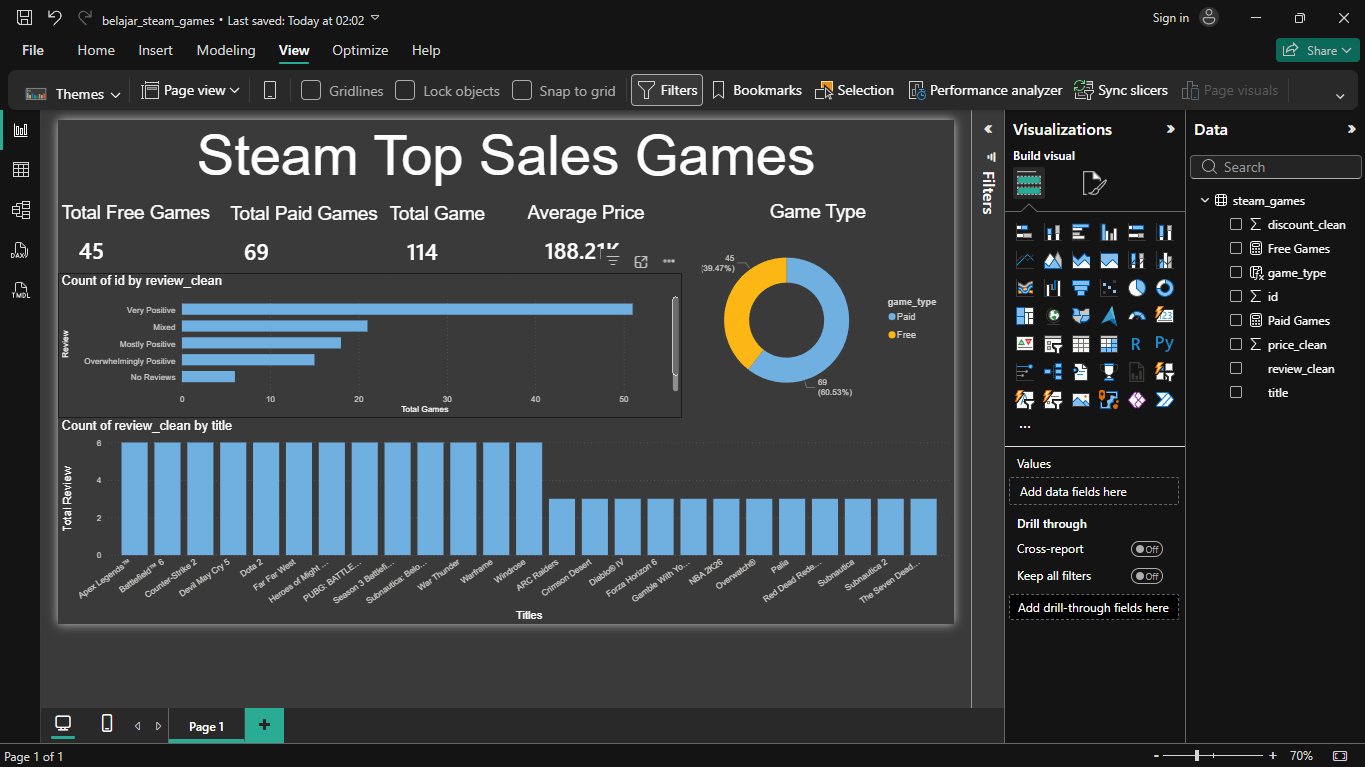

The dashboard page shown, as its layout file describes it:
{"tool":"powerbi","page":{"name":"Page 1","canvas":[1280,720],"ordinal":0},"visuals":[{"type":"donutChart","title":"Game Type","fields":{"Category":["steam_games.game_type"],"Y":["CountNonNull(steam_games.game_type)"]},"box":[891.4,115.5,387.9,310.3],"z":0},{"type":"cardVisual","title":"Total Game","fields":{"Data":["CountNonNull(steam_games.title)"]},"box":[468.7,119.3,171.3,100.8],"z":1000},{"type":"cardVisual","title":"Average Price","fields":{"Data":["Avg(steam_games.price_clean)"]},"box":[665.2,117.6,253.6,102.5],"z":2000},{"type":"clusteredColumnChart","fields":{"Category":["steam_games.title"],"Y":["CountNonNull(steam_games.review_clean)"]},"box":[0,425.9,1279.3,294.8],"z":3000},{"type":"cardVisual","title":"Total Free Games","fields":{"Data":["steam_games.Free Games"]},"box":[0,117.6,236.9,102.5],"z":3001},{"type":"cardVisual","title":"Total Paid Games","fields":{"Data":["steam_games.Paid Games"]},"box":[236.2,119,231,100],"z":3002},{"type":"textbox","box":[0,0,1280,115.9],"z":3003},{"type":"clusteredBarChart","title":"Review Distribution","fields":{"Category":["steam_games.review_clean"],"Y":["CountNonNull(steam_games.id)"]},"box":[0,219,891.4,206.9],"z":3004}]}

Visuals, with their boxes on the page's 1280x720 design canvas (x1, y1, x2, y2). These are canvas units, not pixel positions in the 1365x767 screenshot, which may show the page scaled, cropped or inside an application window:
"Game Type" donutChart: bbox=(891, 116, 1279, 426)
"Total Game" cardVisual: bbox=(469, 119, 640, 220)
"Average Price" cardVisual: bbox=(665, 118, 919, 220)
clusteredColumnChart - steam_games.title x CountNonNull(steam_games.review_clean): bbox=(0, 426, 1279, 721)
"Total Free Games" cardVisual: bbox=(0, 118, 237, 220)
"Total Paid Games" cardVisual: bbox=(236, 119, 467, 219)
textbox: bbox=(0, 0, 1280, 116)
"Review Distribution" clusteredBarChart: bbox=(0, 219, 891, 426)
